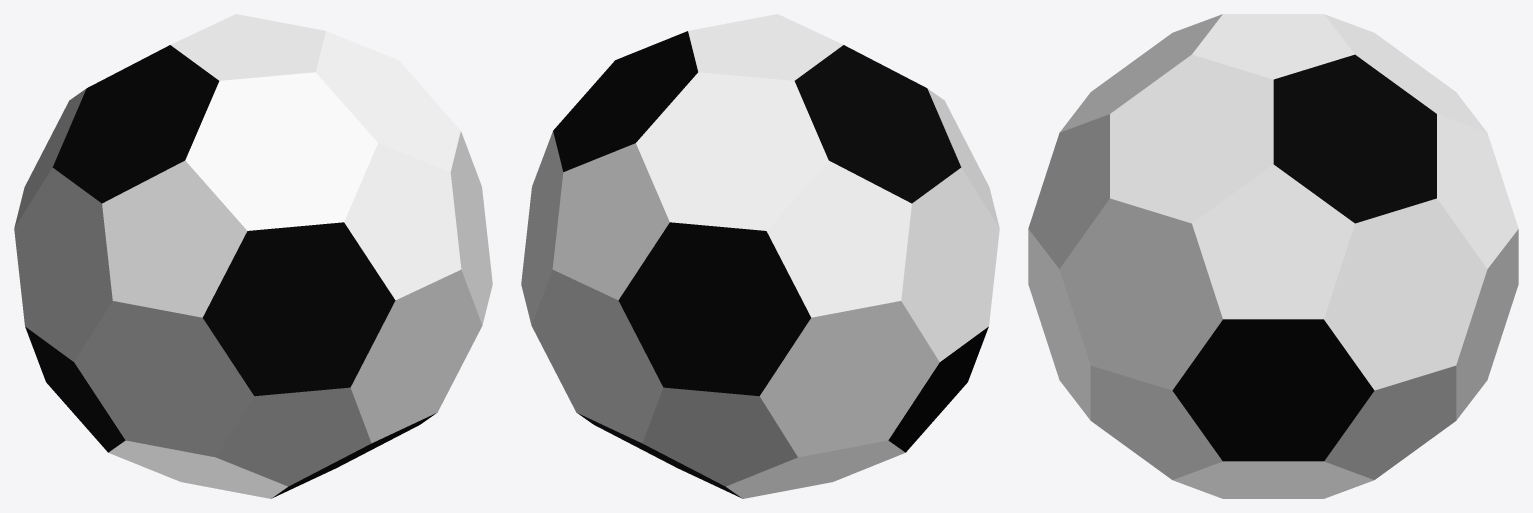
File: pelota de fulbod.fbx
3 views of the same model, side by side, from view 1: azimuth 30°, elevation 25°; view 2: azimuth 150°, elevation 25°; view 3: azimuth 270°, elevation 25° (orthographic). The views are drawn at different scales.
Visible parts, largest first — view 1: Icosphere; view 2: Icosphere; view 3: Icosphere.
Part boxes in pixels (<box>): Icosphere: <box>14,14,492,498</box>; Icosphere: <box>521,14,999,498</box>; Icosphere: <box>1028,14,1518,498</box>.
Bounding box in the file's own units: 168 × 163 × 170.
